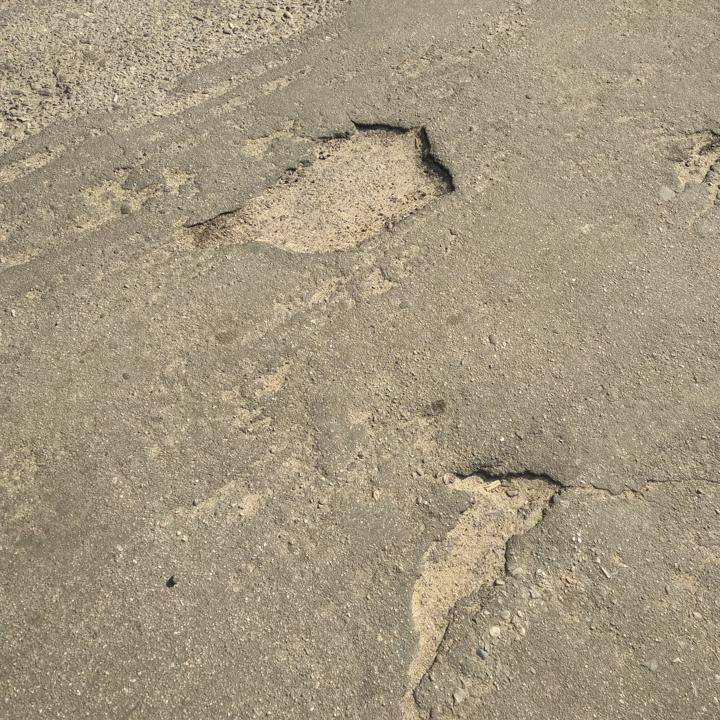pothole: (392, 464, 565, 720), (174, 113, 463, 262), (662, 125, 720, 206)
